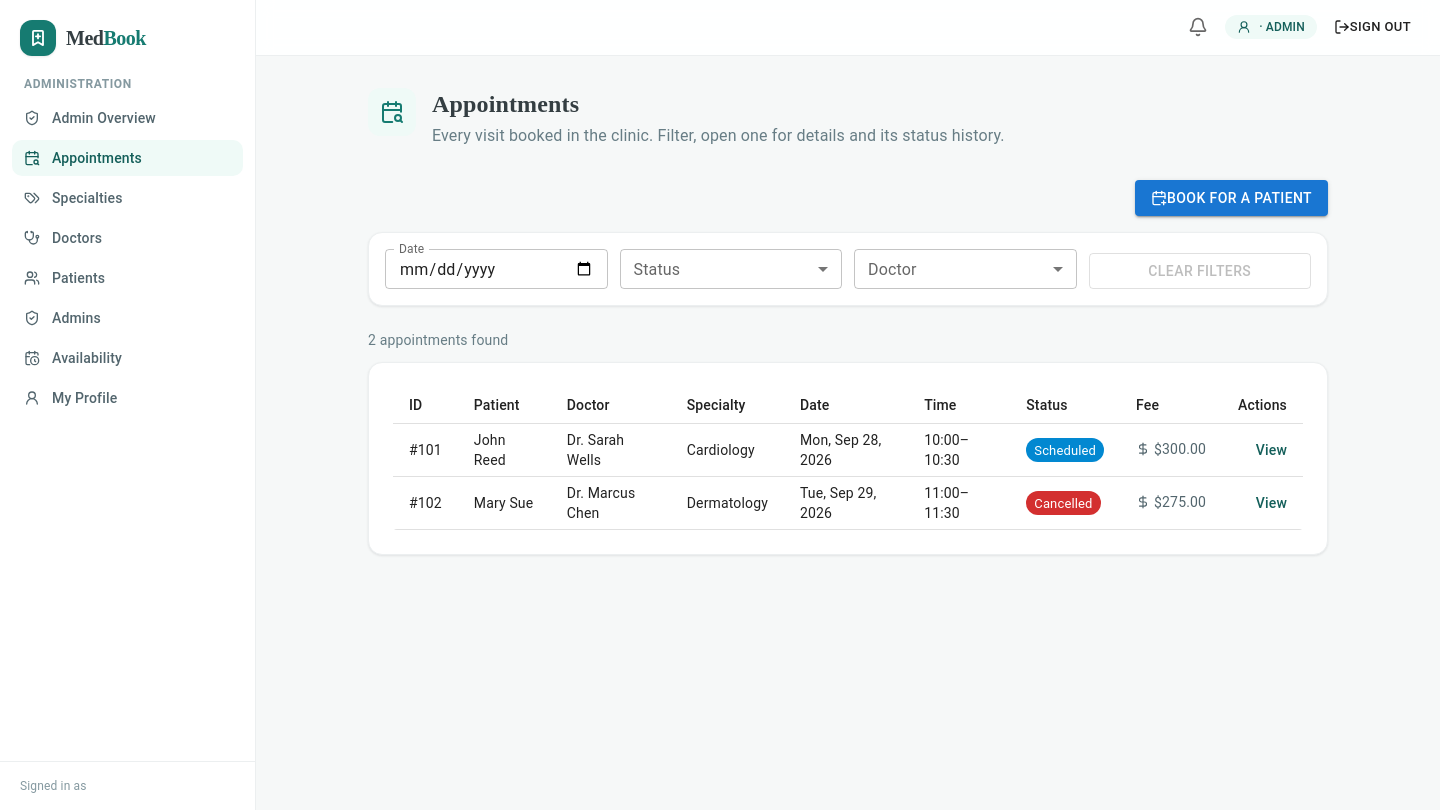
AdminAppointmentsPage › clears all filters with the reset button
Expected: the text "John Reed" is shown, [458,424,551,477]
Type "2026-09-28" into the date field labelled "Date".
click(496, 269); type("2026-09-28")  # box [385,249,608,289]
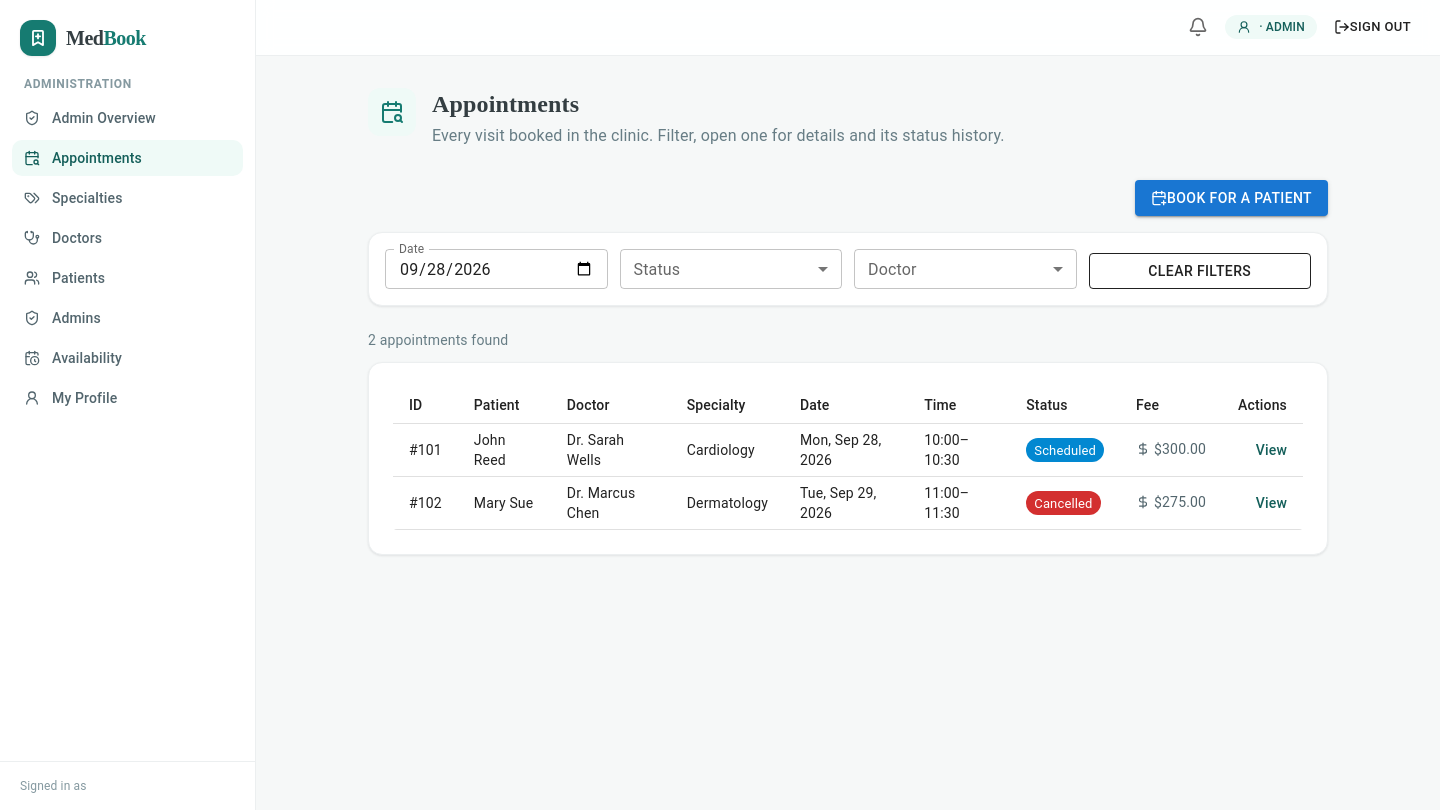
Result: the button "Clear Filters" is enabled
Click the button "Clear Filters".
click(1200, 271)  # box [1088,253,1311,289]
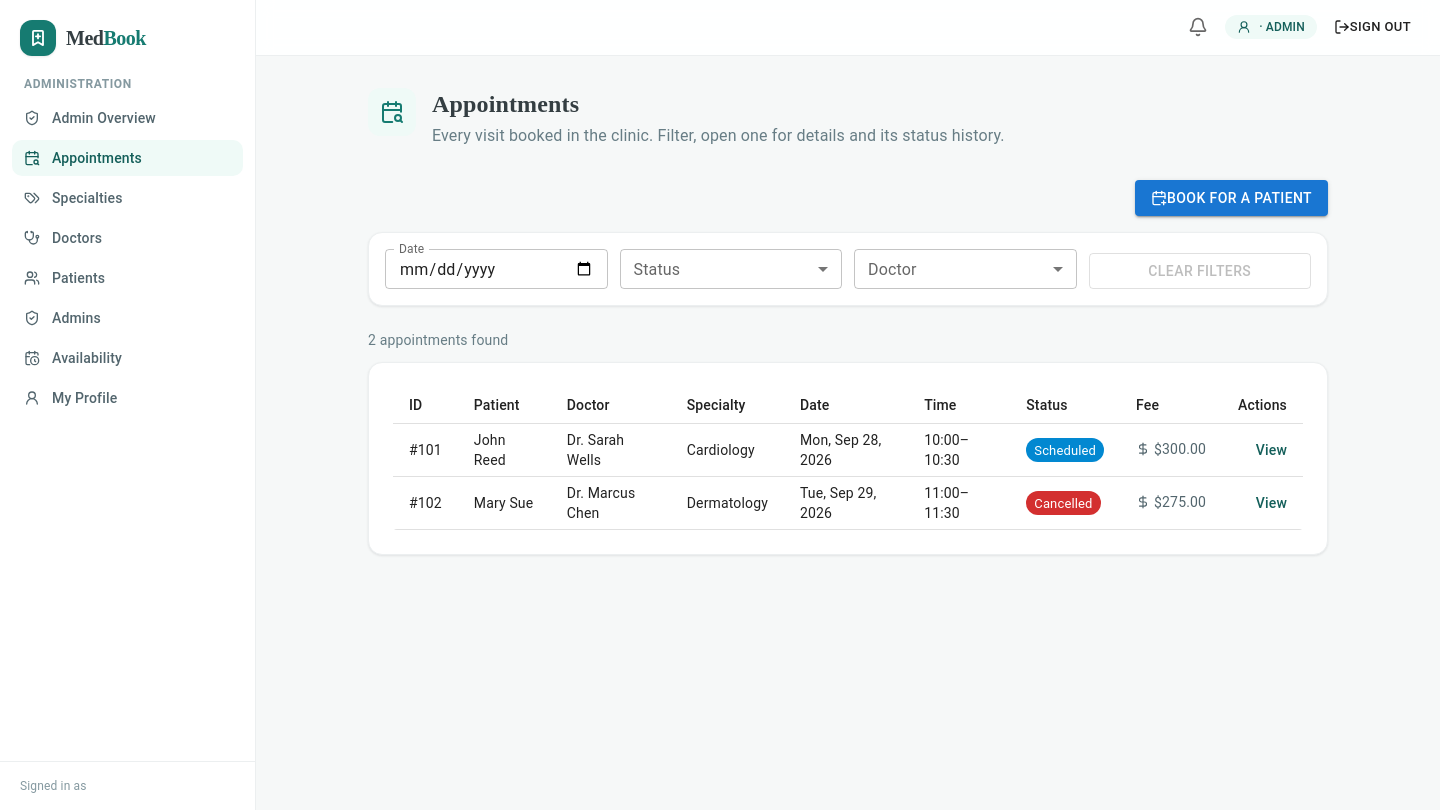
Result: the date field named "Filter by date" is empty at [385,249,608,289]
